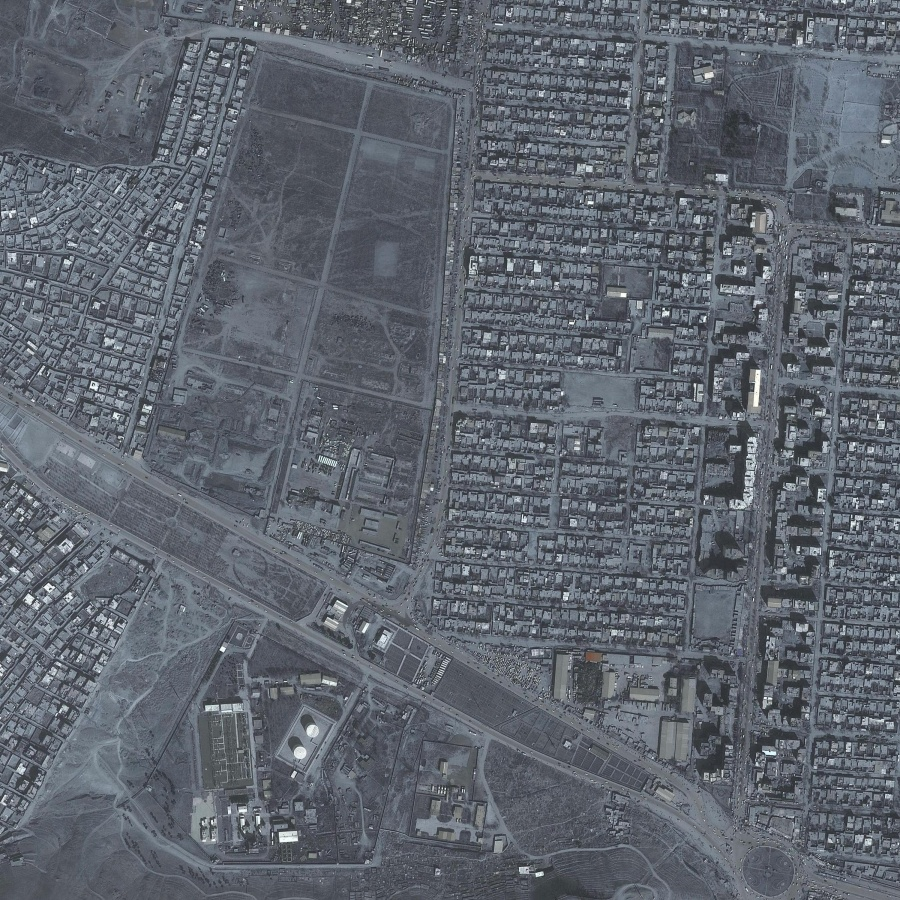PowerPlant: (200, 666, 343, 857)
